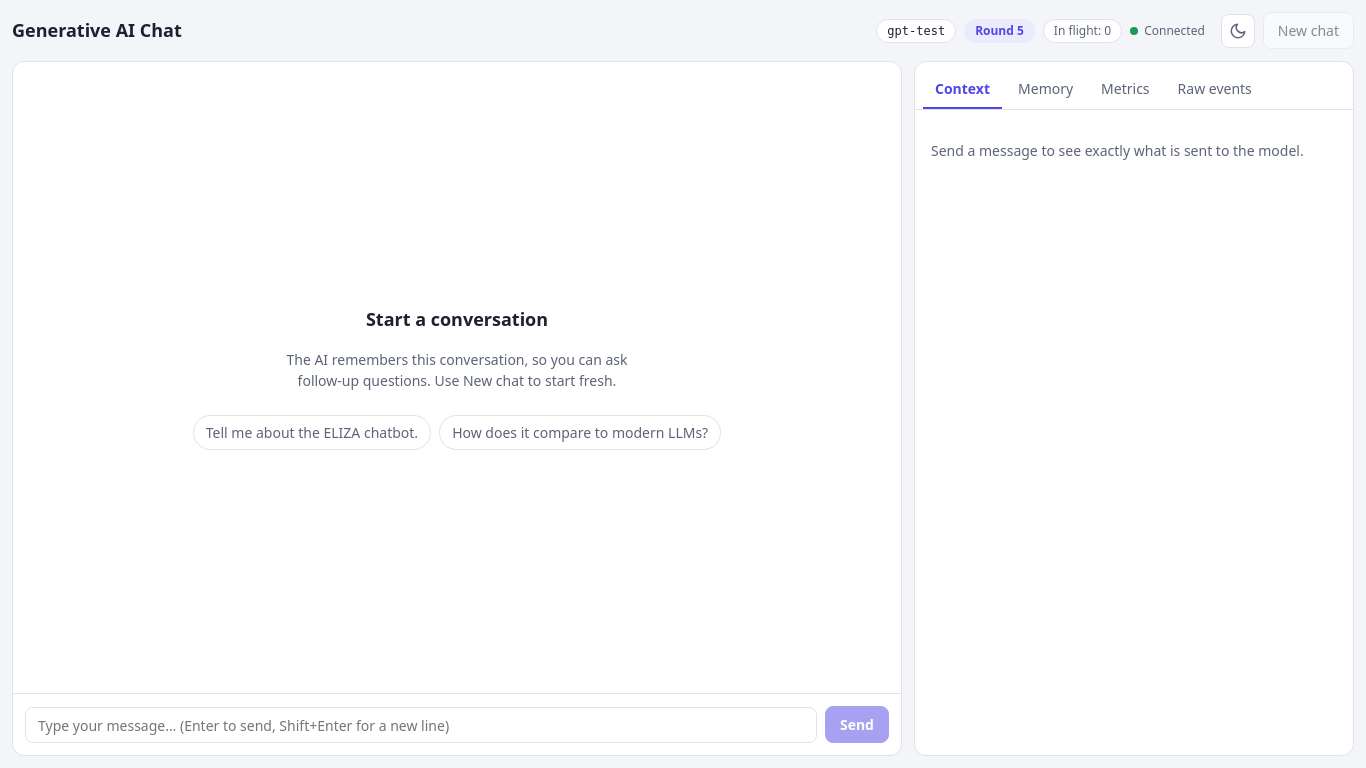
it: streaming chat › creates a session, streams the answer and fills the inspector
The image size is (1366, 768).
Expected: the text "gpt-test" is shown, [876,18,956,42]
Expected: the text "Round 5" is shown, [964,18,1035,42]
Type "Tell me about the ELIZA chatbot." into the text box labelled "message" at [421, 725], box [25,707,817,743]
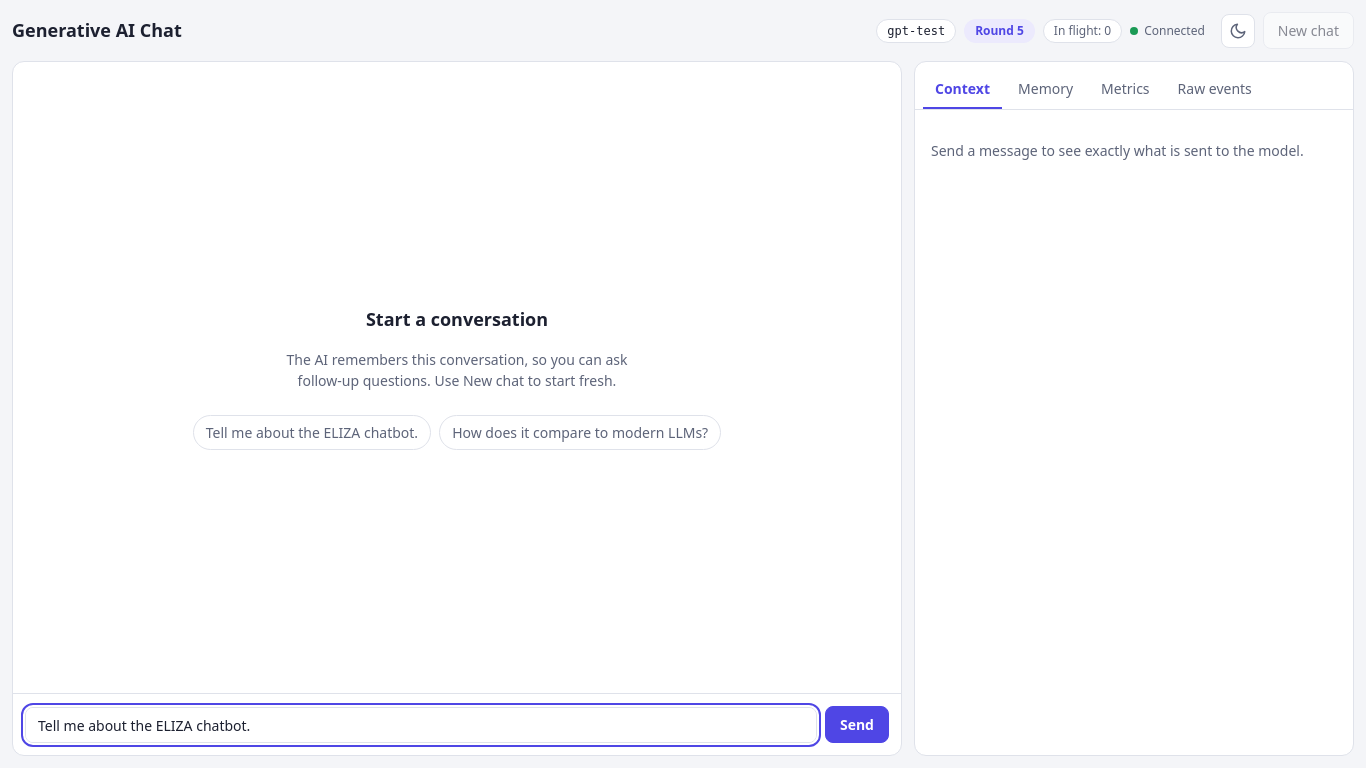
Expected: the button "Send" is enabled
Click the button "Send" at [857, 724], box [825,706,889,743]
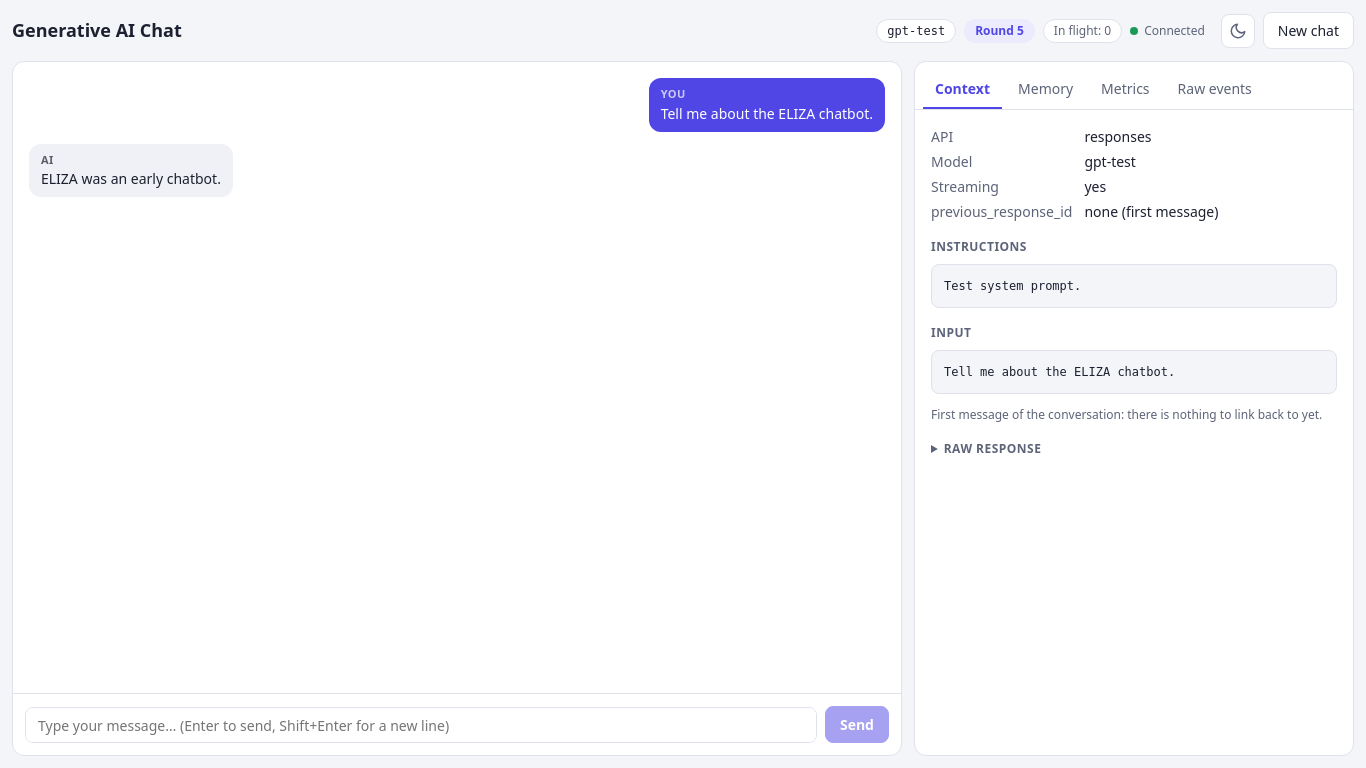
Expected: the text "ELIZA was an early chatbot." is shown, [41,168,221,189]
Expected: the text "Test system prompt." is shown, [931,264,1337,308]
Expected: the text "none (first message)" is shown, [1084,202,1218,221]
Click the tab "Metrics" at [1125, 90], box [1089,70,1162,109]
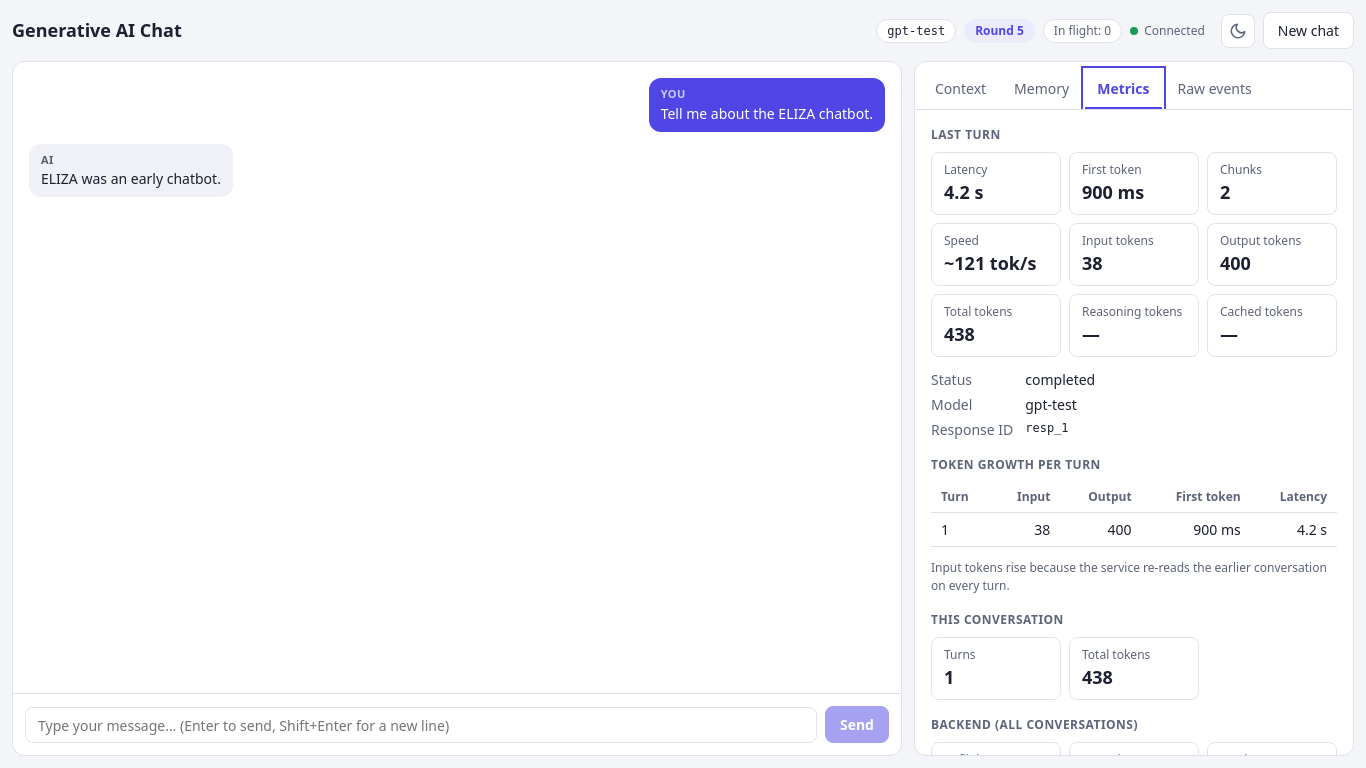
Expected: the text "4.2 s" is shown, [944,180,983,204]
Expected: the text "900 ms" is shown, [1082,180,1144,204]
Expected: the text with class "stat-value" reads "2", [1220,180,1230,204]
